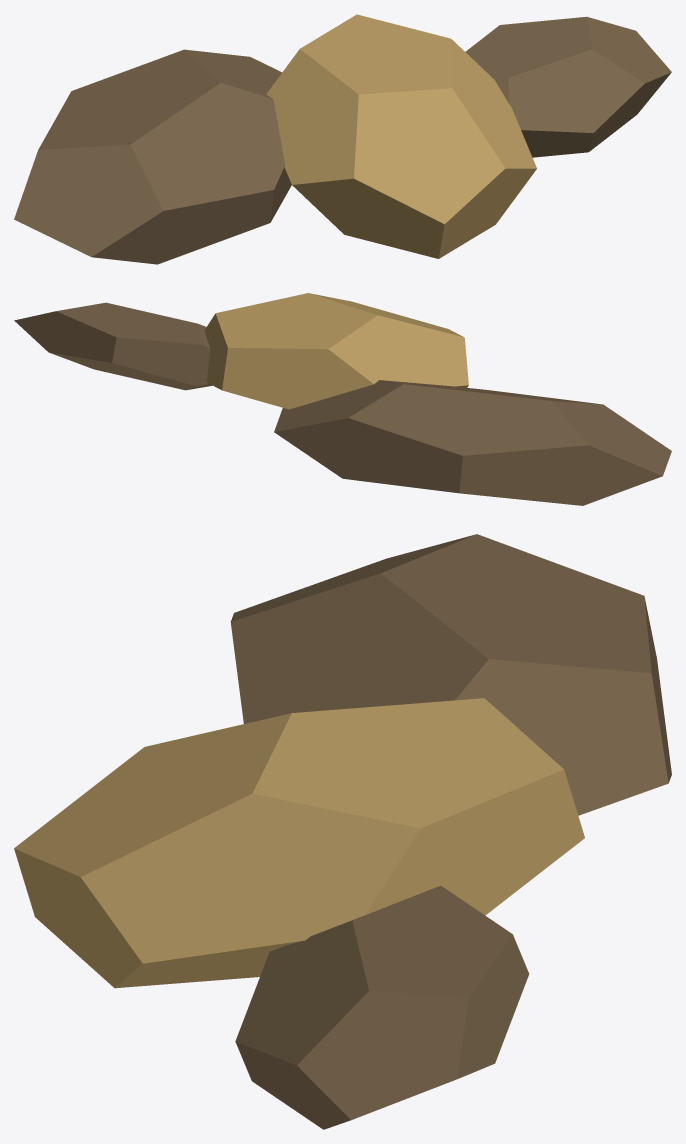
The model's file is road-edge-stones.glb.
The picture shows the model from 3 angles, top to bottom: view 1: azimuth 30°, elevation 25°; view 2: azimuth 150°, elevation 25°; view 3: azimuth 270°, elevation 25°; orthographic projection. The views are drawn at different scales.
Visible parts, largest first — view 1: road_stone_1, road_stone_0, road_stone_2; view 2: road_stone_0, road_stone_1, road_stone_2; view 3: road_stone_1, road_stone_0, road_stone_2.
Boxes of the visible parts, x1,y1,x2,y2 form: road_stone_1: (266,14,536,258); road_stone_0: (14,49,291,264); road_stone_2: (465,16,671,157); road_stone_0: (274,380,671,505); road_stone_1: (204,293,468,409); road_stone_2: (14,302,212,390); road_stone_1: (14,698,584,988); road_stone_0: (230,534,671,815); road_stone_2: (235,885,529,1129).
Bounding box in the file's own units: 1.91 × 0.3396 × 0.9538.
